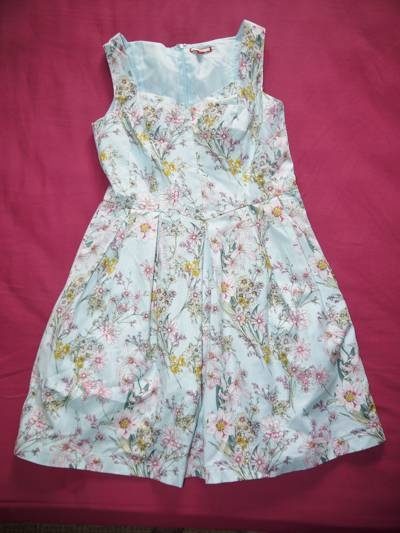Dress: (28, 5, 366, 475)
